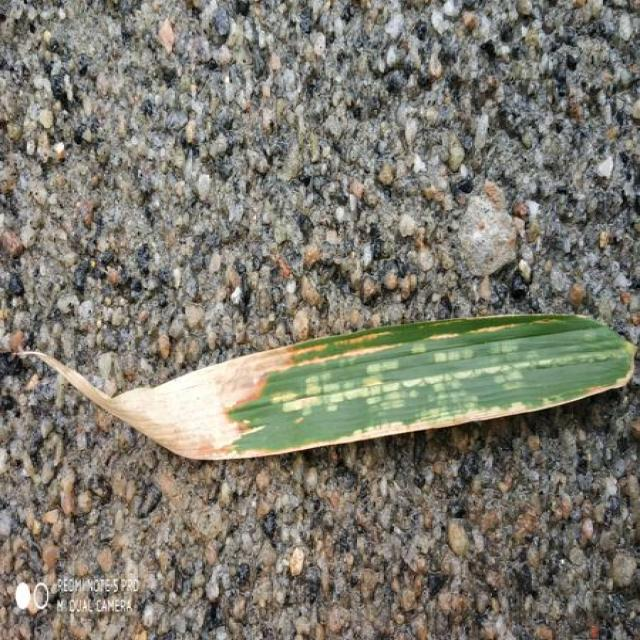Bamboo: (20, 315, 635, 459)
defectedBamboo: (20, 316, 512, 459)
